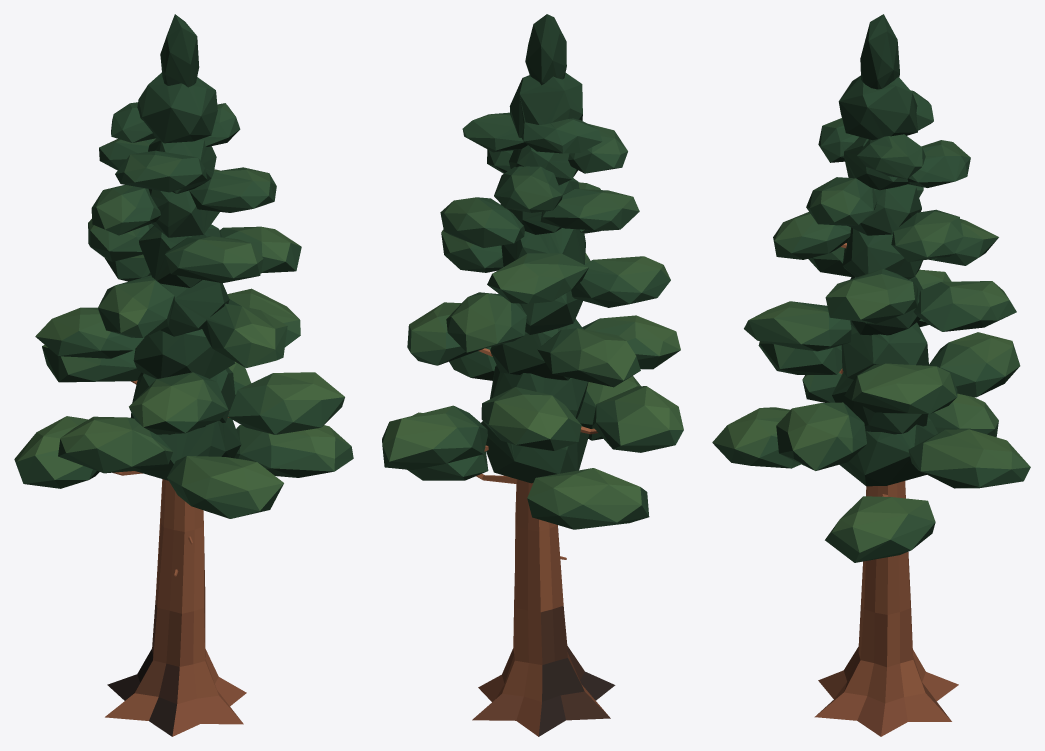
The model's file is zenscape-hero-redwood.glb.
3 views of the same model, side by side, from view 1: azimuth 30°, elevation 25°; view 2: azimuth 150°, elevation 25°; view 3: azimuth 270°, elevation 25° (orthographic).
Parts seen in each view (by area): view 1: Foliage, Bark; view 2: Foliage, Bark; view 3: Foliage, Bark.
Boxes of the visible parts, x1,y1,x2,y2 form: Foliage: (14,14,353,518); Bark: (105,380,246,736); Foliage: (382,14,683,529); Bark: (472,348,615,736); Foliage: (712,14,1030,562); Bark: (814,243,958,736).
Bounding box in the file's own units: 7.68 × 17.48 × 7.33.
